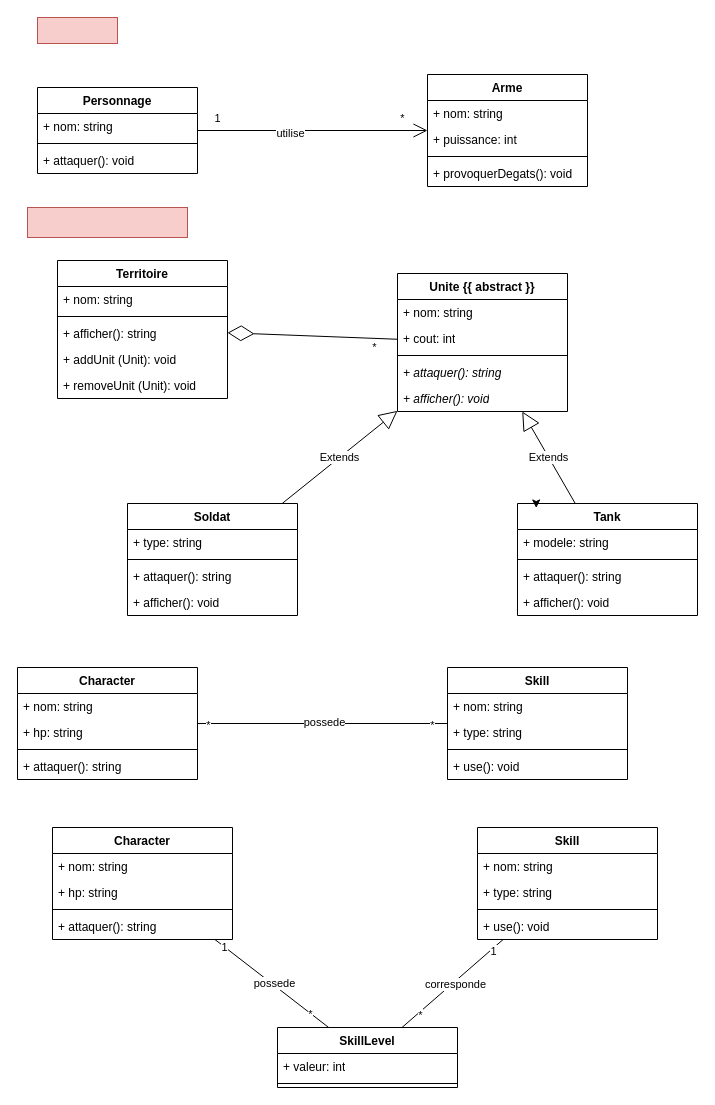
This 715x1105 diagram has some shape labels left out. The shapes that lost their labels are listed below. From the top down, each one's centre as x and y in pixels, then its label:
At (x=77, y=30): "Association 1".
At (x=107, y=222): "Héritage, Aggregation".
